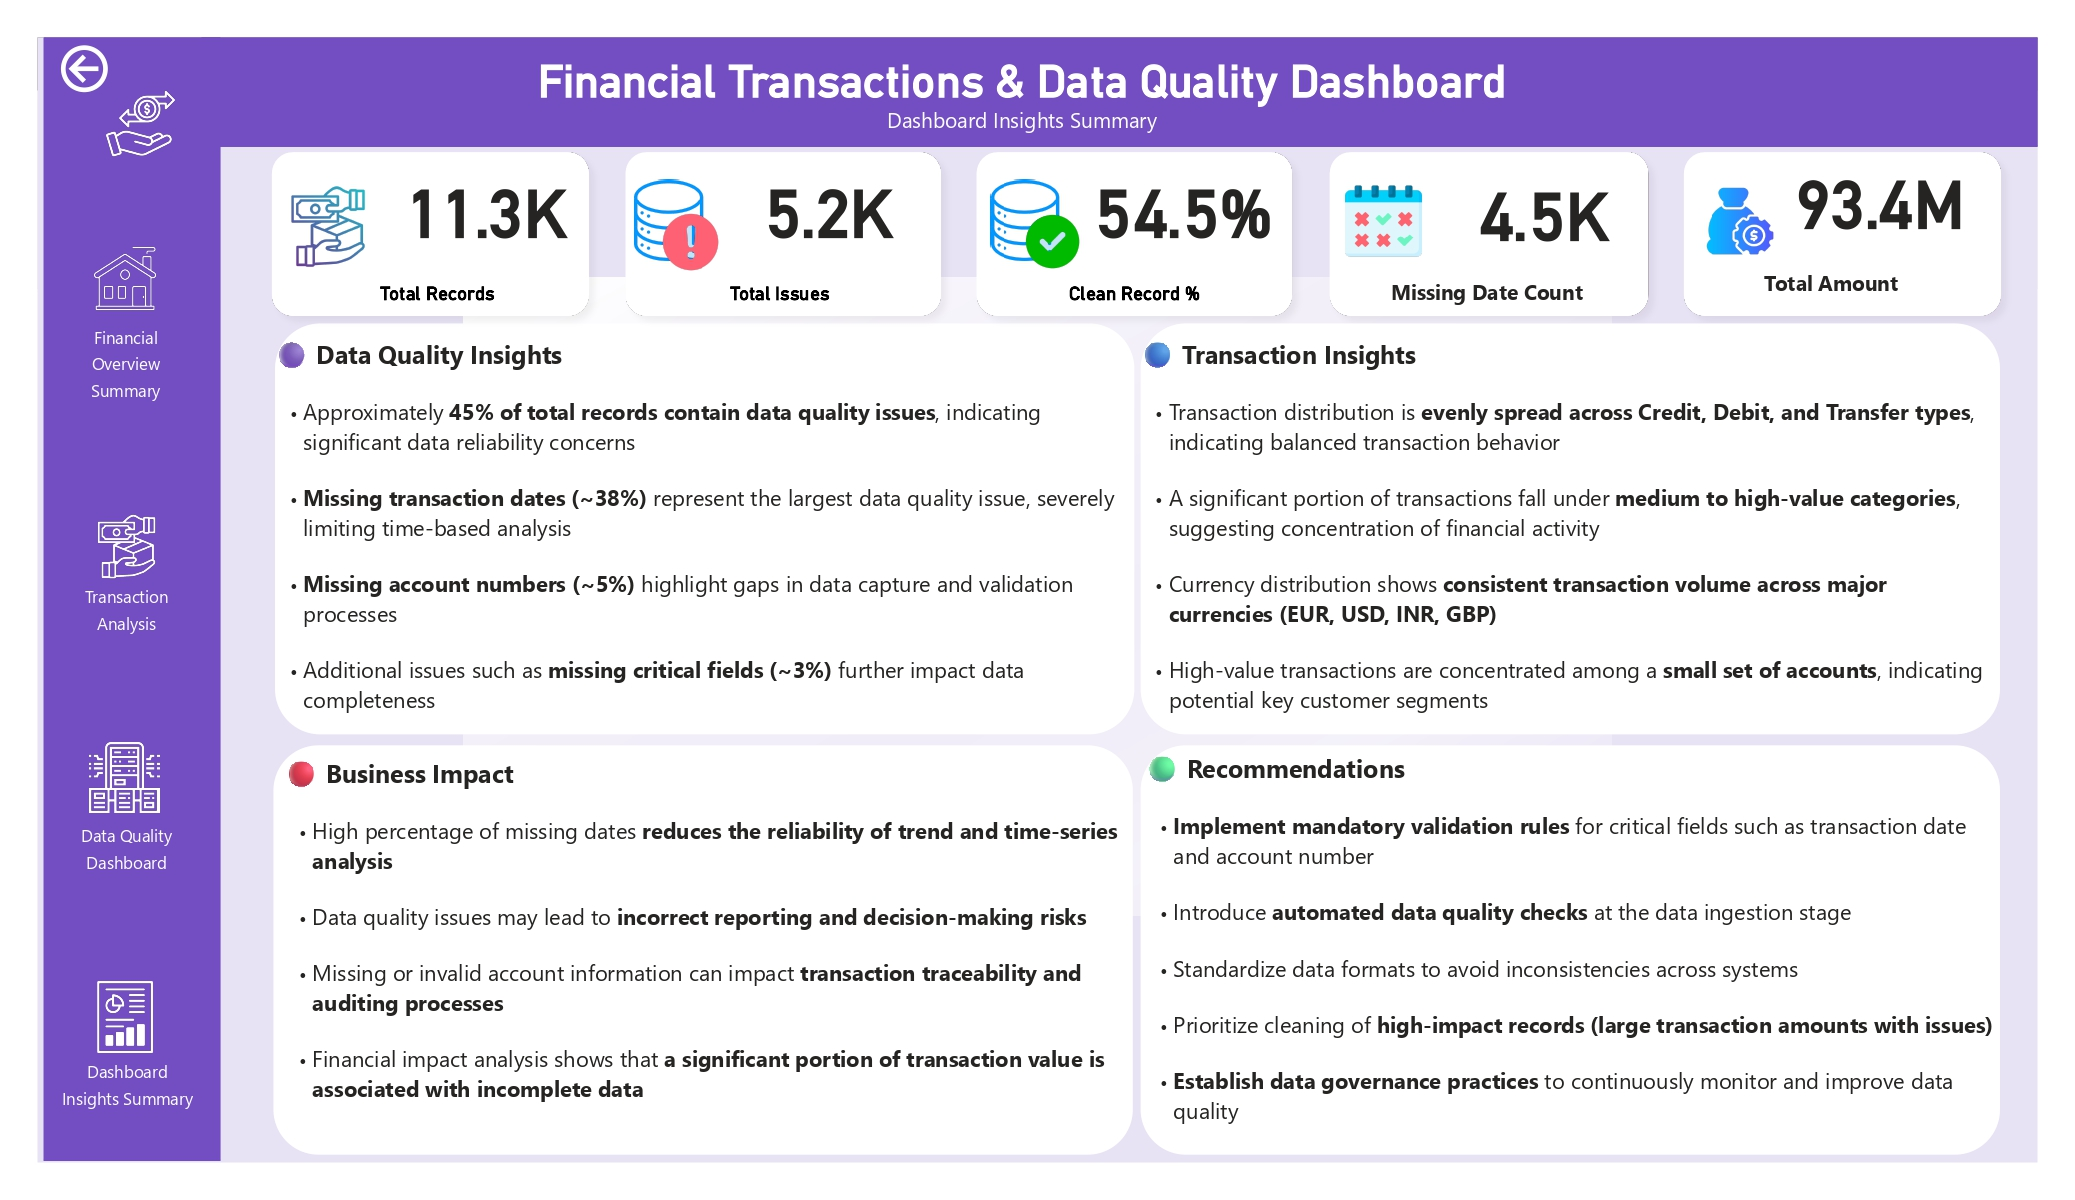

Layout of this report page (visuals, bound fields, positions):
{"tool":"powerbi","page":{"name":"Dashboard Insights Summary","canvas":[1280,720],"ordinal":3},"visuals":[{"type":"group","id":"g1","title":"Group 10","box":[817.5,64.1,222,122.7],"z":0},{"type":"image","box":[367.1,90.5,80.6,52.8],"z":0,"group":"g23"},{"type":"group","id":"g2","title":"Group 4","box":[594.9,91,80.6,52.8],"z":0,"group":"g22"},{"type":"image","box":[594.9,91,80.6,52.8],"z":0,"group":"g2"},{"type":"shape","box":[1044.9,64,220.5,123.1],"z":500,"group":"g16"},{"type":"image","box":[386.8,106.2,60.9,47.9],"z":1000,"group":"g23"},{"type":"image","box":[622.7,106.2,52.8,48.4],"z":1000,"group":"g22"},{"type":"shape","box":[151.6,183,550,262.9],"z":1000},{"type":"shape","title":"FINANCE","box":[3.8,0,112.8,719.2],"z":2000},{"type":"actionButton","box":[10.2,0,100,39.8],"z":3000},{"type":"image","box":[29.7,115.4,53.9,77.1],"z":3000,"group":"g19"},{"type":"group","id":"g3","title":"Group 5","box":[38.9,28.2,54.5,54.5],"z":4000},{"type":"image","box":[38.9,28.2,54.5,54.5],"z":4000,"group":"g3"},{"type":"image","box":[28.4,445.9,55.1,55.1],"z":4000,"group":"g5"},{"type":"group","id":"g4","title":"Group 7","box":[8.7,299.3,95.9,89.6],"z":5000},{"type":"image","box":[29.2,299.3,54.5,54.5],"z":5000,"group":"g4"},{"type":"shape","box":[105.1,0,1174.7,70.4],"z":6000,"group":"g15"},{"type":"textbox","box":[9.4,177.3,94.9,65],"z":6000,"group":"g19"},{"type":"group","id":"g5","title":"Group 8","box":[9,445.9,95.9,95.9],"z":6000},{"type":"textbox","box":[9.7,646.5,94.9,65],"z":6000,"group":"g6"},{"type":"textbox","box":[122.4,5.9,1015.3,64.5],"z":7000,"group":"g15"},{"type":"shape","box":[366.9,64,219.9,122.7],"z":7000,"group":"g17"},{"type":"shape","box":[141,64.1,220.5,123.1],"z":7000,"group":"g7"},{"type":"shape","box":[592.2,64.1,220,122.7],"z":7000,"group":"g21"},{"type":"shape","box":[817.5,64.1,222,122.7],"z":7000,"group":"g18"},{"type":"card","fields":{"Values":["Table.Missing Date Count"]},"box":[880.8,74.4,166.7,71.8],"z":7000},{"type":"group","id":"g6","title":"Group 9","box":[9.7,646.5,94.9,65],"z":7000,"group":"g20"},{"type":"group","id":"g7","title":"Group 3","box":[141,64.1,220.5,123.1],"z":8000},{"type":"group","id":"g8","title":"Group 10","box":[366.9,64,220,123.1],"z":9000},{"type":"card","fields":{"Values":["Table.Total Revenue/Amount"]},"box":[1106.8,65.6,143.7,72.8],"z":9000,"group":"g10"},{"type":"card","fields":{"Values":["Table.Data Issue Count"]},"box":[434.2,71.5,143.6,72.5],"z":9000,"group":"g11"},{"type":"card","fields":{"Values":["Table.Total Transactions"]},"box":[214.8,71.6,143.7,72.8],"z":9000,"group":"g12"},{"type":"card","fields":{"Values":["Table.Clean %"]},"box":[661,71.6,143.7,72.5],"z":9000,"group":"g13"},{"type":"group","id":"g9","title":"Group 11","box":[592.2,64.1,220,122.7],"z":10000},{"type":"image","box":[153,71.6,66.4,97.9],"z":10000,"group":"g12"},{"type":"textbox","box":[8.7,343,95.9,45.9],"z":10000,"group":"g4"},{"type":"image","box":[817.9,88.5,85.9,59],"z":11000},{"type":"textbox","box":[1065.8,142.9,163.8,32.3],"z":11000,"group":"g10"},{"type":"textbox","box":[393.3,148.5,163.7,32.2],"z":11000,"group":"g11"},{"type":"textbox","box":[620,148.6,163.8,32.2],"z":11000,"group":"g13"},{"type":"textbox","box":[844.2,148.6,165.3,32.2],"z":11000,"group":"g14"},{"type":"textbox","box":[173.9,148.9,163.8,32.3],"z":11000,"group":"g12"},{"type":"textbox","box":[9,495.9,95.9,45.9],"z":11000,"group":"g5"},{"type":"group","id":"g10","title":"Group 2","box":[1065.8,65.6,184.7,109.6],"z":11001,"group":"g16"},{"type":"group","id":"g11","title":"Group 2","box":[393.3,71.5,184.6,109.3],"z":11001,"group":"g17"},{"type":"group","id":"g12","title":"Group 2","box":[153,71.6,205.5,109.6],"z":11001,"group":"g7"},{"type":"group","id":"g13","title":"Group 2","box":[620,71.6,184.7,109.3],"z":11001,"group":"g21"},{"type":"group","id":"g14","title":"Group 2","box":[844.2,148.6,165.3,32.2],"z":11001,"group":"g18"},{"type":"group","id":"g15","title":"Group 4","box":[105.1,0,1174.4,70.5],"z":12000},{"type":"group","id":"g16","title":"Group 3","box":[1044.9,64,220.5,123.1],"z":13000},{"type":"image","box":[1048.7,88.5,80.8,59],"z":14000},{"type":"shape","box":[705.9,452.6,550,262.8],"z":15000},{"type":"image","box":[22.5,598.7,65.4,56.4],"z":15009,"group":"g20"},{"type":"shape","box":[705.9,183.3,550,262.8],"z":16000},{"type":"shape","box":[151.3,452.6,550,262.8],"z":17000},{"type":"textbox","box":[147.4,187.2,555.1,259],"z":18000},{"type":"textbox","box":[701.3,187.2,555.1,259],"z":19000},{"type":"textbox","box":[152.6,455.1,555.1,259],"z":20000},{"type":"textbox","box":[703.8,453.8,555.1,259],"z":21000},{"type":"group","id":"g17","title":"Group 3","box":[366.9,64,219.9,122.7],"z":22000,"group":"g8"},{"type":"group","id":"g18","title":"Group 3","box":[817.5,64.1,222,122.7],"z":22000,"group":"g1"},{"type":"group","id":"g19","title":"Group 9","box":[9.4,115.4,94.9,126.9],"z":22000},{"type":"group","id":"g20","title":"Group 1","box":[9.7,598.7,94.9,112.8],"z":23000},{"type":"group","id":"g21","title":"Group 3","box":[592.2,64.1,220,122.7],"z":24000,"group":"g9"},{"type":"group","id":"g22","title":"Group 6","box":[594.9,91,80.6,63.6],"z":27000,"group":"g9"},{"type":"group","id":"g23","title":"Group 4","box":[367.1,90.5,80.6,63.6],"z":28000,"group":"g8"}]}

Visuals, with their boxes on the page's 1280x720 design canvas (x1, y1, x2, y2). These are canvas units, not pixel positions in the 2075x1200 screenshot, which may show the page scaled, cropped or inside an application window:
"Group 10" group: {"x1": 818, "y1": 64, "x2": 1040, "y2": 187}
image: {"x1": 367, "y1": 90, "x2": 448, "y2": 143}
"Group 4" group: {"x1": 595, "y1": 91, "x2": 676, "y2": 144}
image: {"x1": 595, "y1": 91, "x2": 676, "y2": 144}
shape: {"x1": 1045, "y1": 64, "x2": 1265, "y2": 187}
image: {"x1": 387, "y1": 106, "x2": 448, "y2": 154}
image: {"x1": 623, "y1": 106, "x2": 676, "y2": 155}
shape: {"x1": 152, "y1": 183, "x2": 702, "y2": 446}
"FINANCE" shape: {"x1": 4, "y1": 0, "x2": 117, "y2": 719}
actionButton: {"x1": 10, "y1": 0, "x2": 110, "y2": 40}
image: {"x1": 30, "y1": 115, "x2": 84, "y2": 192}
"Group 5" group: {"x1": 39, "y1": 28, "x2": 93, "y2": 83}
image: {"x1": 39, "y1": 28, "x2": 93, "y2": 83}
image: {"x1": 28, "y1": 446, "x2": 84, "y2": 501}
"Group 7" group: {"x1": 9, "y1": 299, "x2": 105, "y2": 389}
image: {"x1": 29, "y1": 299, "x2": 84, "y2": 354}
shape: {"x1": 105, "y1": 0, "x2": 1280, "y2": 70}
textbox: {"x1": 9, "y1": 177, "x2": 104, "y2": 242}
"Group 8" group: {"x1": 9, "y1": 446, "x2": 105, "y2": 542}
textbox: {"x1": 10, "y1": 646, "x2": 105, "y2": 712}
textbox: {"x1": 122, "y1": 6, "x2": 1138, "y2": 70}
shape: {"x1": 367, "y1": 64, "x2": 587, "y2": 187}
shape: {"x1": 141, "y1": 64, "x2": 362, "y2": 187}
shape: {"x1": 592, "y1": 64, "x2": 812, "y2": 187}
shape: {"x1": 818, "y1": 64, "x2": 1040, "y2": 187}
card - Table.Missing Date Count: {"x1": 881, "y1": 74, "x2": 1048, "y2": 146}
"Group 9" group: {"x1": 10, "y1": 646, "x2": 105, "y2": 712}
"Group 3" group: {"x1": 141, "y1": 64, "x2": 362, "y2": 187}
"Group 10" group: {"x1": 367, "y1": 64, "x2": 587, "y2": 187}
card - Table.Total Revenue/Amount: {"x1": 1107, "y1": 66, "x2": 1250, "y2": 138}
card - Table.Data Issue Count: {"x1": 434, "y1": 72, "x2": 578, "y2": 144}
card - Table.Total Transactions: {"x1": 215, "y1": 72, "x2": 358, "y2": 144}
card - Table.Clean %: {"x1": 661, "y1": 72, "x2": 805, "y2": 144}
"Group 11" group: {"x1": 592, "y1": 64, "x2": 812, "y2": 187}
image: {"x1": 153, "y1": 72, "x2": 219, "y2": 170}
textbox: {"x1": 9, "y1": 343, "x2": 105, "y2": 389}
image: {"x1": 818, "y1": 88, "x2": 904, "y2": 148}
textbox: {"x1": 1066, "y1": 143, "x2": 1230, "y2": 175}
textbox: {"x1": 393, "y1": 148, "x2": 557, "y2": 181}
textbox: {"x1": 620, "y1": 149, "x2": 784, "y2": 181}
textbox: {"x1": 844, "y1": 149, "x2": 1010, "y2": 181}
textbox: {"x1": 174, "y1": 149, "x2": 338, "y2": 181}
textbox: {"x1": 9, "y1": 496, "x2": 105, "y2": 542}
"Group 2" group: {"x1": 1066, "y1": 66, "x2": 1250, "y2": 175}
"Group 2" group: {"x1": 393, "y1": 72, "x2": 578, "y2": 181}
"Group 2" group: {"x1": 153, "y1": 72, "x2": 358, "y2": 181}
"Group 2" group: {"x1": 620, "y1": 72, "x2": 805, "y2": 181}
"Group 2" group: {"x1": 844, "y1": 149, "x2": 1010, "y2": 181}
"Group 4" group: {"x1": 105, "y1": 0, "x2": 1280, "y2": 70}
"Group 3" group: {"x1": 1045, "y1": 64, "x2": 1265, "y2": 187}
image: {"x1": 1049, "y1": 88, "x2": 1130, "y2": 148}
shape: {"x1": 706, "y1": 453, "x2": 1256, "y2": 715}
image: {"x1": 22, "y1": 599, "x2": 88, "y2": 655}
shape: {"x1": 706, "y1": 183, "x2": 1256, "y2": 446}
shape: {"x1": 151, "y1": 453, "x2": 701, "y2": 715}
textbox: {"x1": 147, "y1": 187, "x2": 702, "y2": 446}
textbox: {"x1": 701, "y1": 187, "x2": 1256, "y2": 446}
textbox: {"x1": 153, "y1": 455, "x2": 708, "y2": 714}
textbox: {"x1": 704, "y1": 454, "x2": 1259, "y2": 713}
"Group 3" group: {"x1": 367, "y1": 64, "x2": 587, "y2": 187}
"Group 3" group: {"x1": 818, "y1": 64, "x2": 1040, "y2": 187}
"Group 9" group: {"x1": 9, "y1": 115, "x2": 104, "y2": 242}
"Group 1" group: {"x1": 10, "y1": 599, "x2": 105, "y2": 712}
"Group 3" group: {"x1": 592, "y1": 64, "x2": 812, "y2": 187}
"Group 6" group: {"x1": 595, "y1": 91, "x2": 676, "y2": 155}
"Group 4" group: {"x1": 367, "y1": 90, "x2": 448, "y2": 154}
